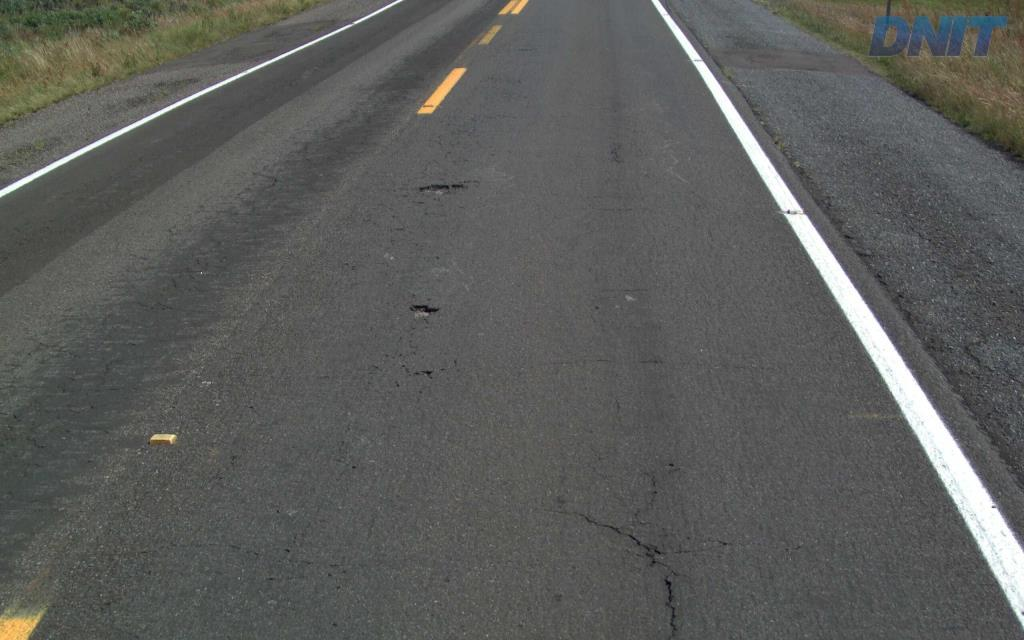crack: (579, 513, 670, 570), (663, 569, 681, 624)
